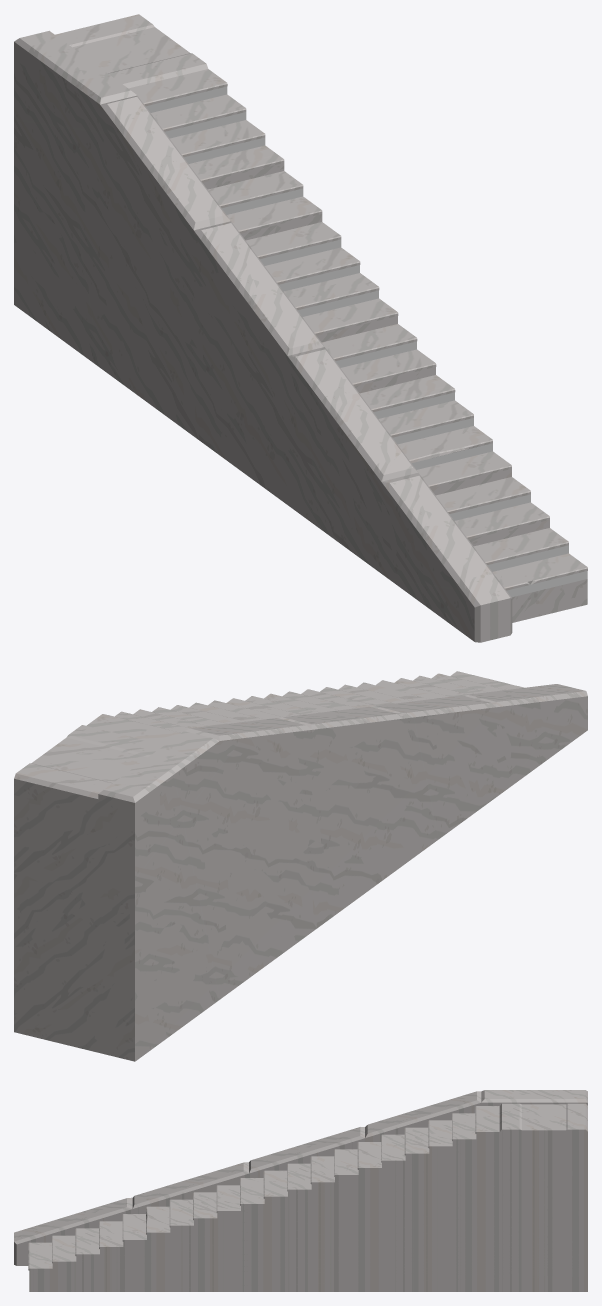
Rendered from SM_Bld_Amphitheatre_End_01.fbx.
3 renders of one model, top to bottom at view 1: azimuth 30°, elevation 25°; view 2: azimuth 150°, elevation 25°; view 3: azimuth 270°, elevation 25°, orthographic. The views are drawn at different scales.
Parts seen in each view (by area): view 1: SM_Bld_Amphitheatre_End_01; view 2: SM_Bld_Amphitheatre_End_01; view 3: SM_Bld_Amphitheatre_End_01.
Boxes of the visible parts, box(x1,y1,x2,y2) form: SM_Bld_Amphitheatre_End_01: box(14, 14, 587, 642); SM_Bld_Amphitheatre_End_01: box(14, 671, 587, 1061); SM_Bld_Amphitheatre_End_01: box(14, 1090, 587, 1291).
Bounding box in the file's own units: 250 × 518 × 1627.
